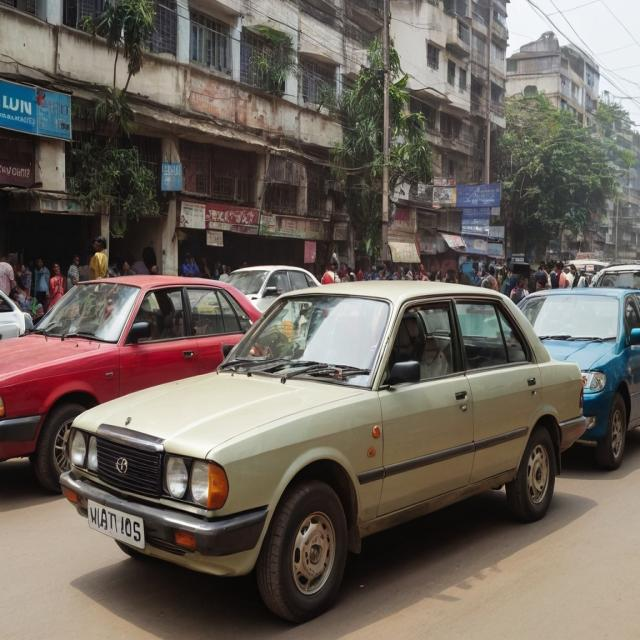blue: (509, 290, 640, 470)
red: (0, 271, 265, 464)
silver: (61, 285, 582, 570)
white: (219, 255, 320, 332)
